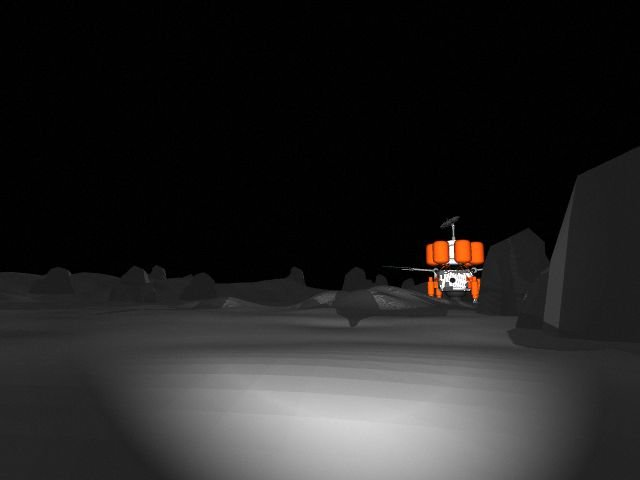homebase: (385, 213, 521, 307)
